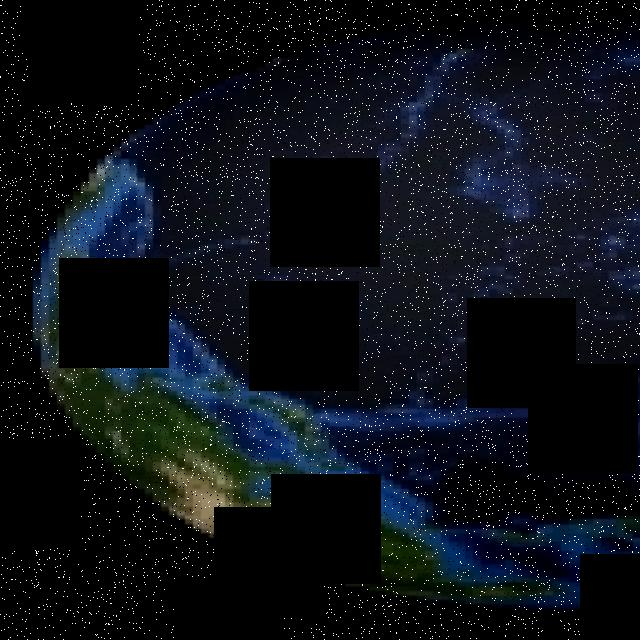Earth: (24, 4, 640, 618)
